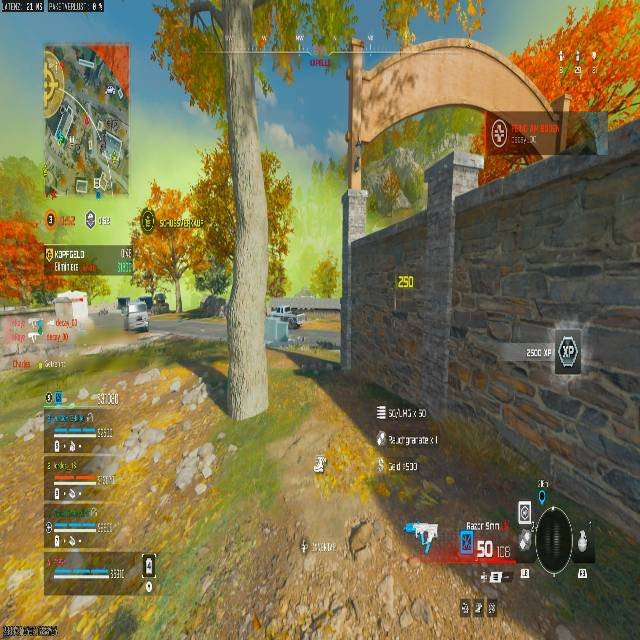player: (278, 302, 303, 347), (150, 292, 169, 314)
